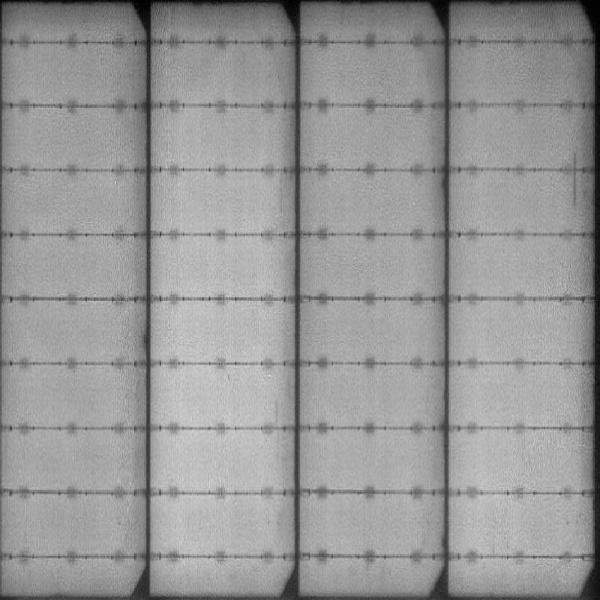scratch: (568, 150, 580, 207)
